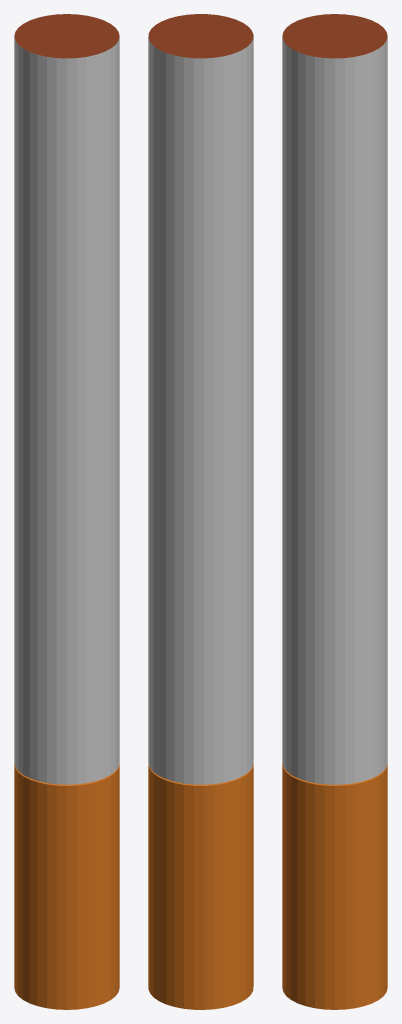
File: cigarette.glb
3 views of the same model, side by side, from view 1: azimuth 90°, elevation 25°; view 2: azimuth 150°, elevation 25°; view 3: azimuth 270°, elevation 25° (orthographic).
Parts seen in each view (by area): view 1: Cylinder, Cylinder.001; view 2: Cylinder, Cylinder.001; view 3: Cylinder, Cylinder.001.
Boxes of the visible parts, x1,y1,x2,y2 form: Cylinder: [14, 14, 119, 784]; Cylinder.001: [14, 763, 119, 1009]; Cylinder: [148, 14, 253, 784]; Cylinder.001: [148, 762, 253, 1009]; Cylinder: [282, 14, 387, 784]; Cylinder.001: [282, 763, 387, 1009].
Size of the model in its own units: 2 by 19.94 by 2.
